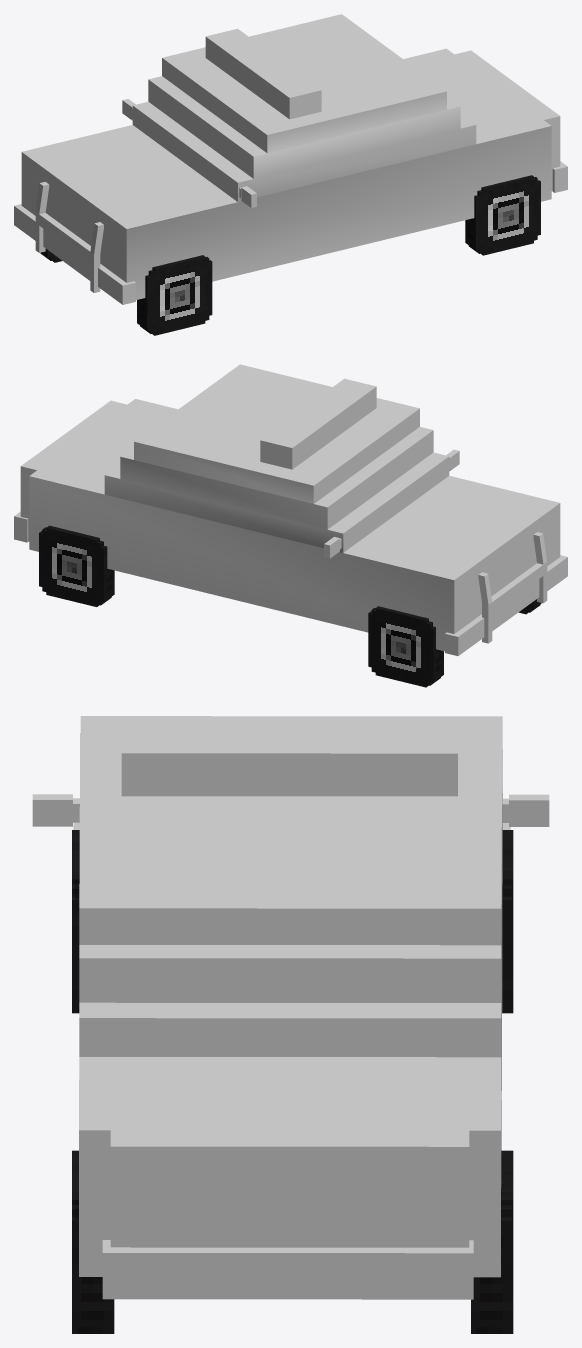
Rendered from BGN_POLICE CAR.fbx.
The picture shows the model from 3 angles, top to bottom: view 1: azimuth 30°, elevation 25°; view 2: azimuth 150°, elevation 25°; view 3: azimuth 270°, elevation 25°; orthographic projection. The views are drawn at different scales.
Parts seen in each view (by area): view 1: BGN_POLICE_CAR, R_R__7___2_, R_R__7___3_; view 2: BGN_POLICE_CAR, R_R__7___1_, R_R__7___4_; view 3: BGN_POLICE_CAR, R_R__7___1_, R_R__7___3_, R_R__7___4_, R_R__7___2_.
Boxes of the visible parts, x1,y1,x2,y2 form: BGN_POLICE_CAR: [14, 14, 567, 304]; R_R__7___2_: [137, 255, 212, 335]; R_R__7___3_: [465, 175, 540, 255]; BGN_POLICE_CAR: [14, 364, 567, 655]; R_R__7___1_: [39, 525, 114, 606]; R_R__7___4_: [368, 606, 443, 687]; BGN_POLICE_CAR: [32, 716, 549, 1299]; R_R__7___1_: [471, 1150, 513, 1333]; R_R__7___3_: [72, 1150, 114, 1333]; R_R__7___4_: [502, 830, 513, 1013]; R_R__7___2_: [72, 830, 79, 1013].
Bounding box in the file's own units: 441 × 178 × 216.
Materials: 2 (1 with a texture image).
